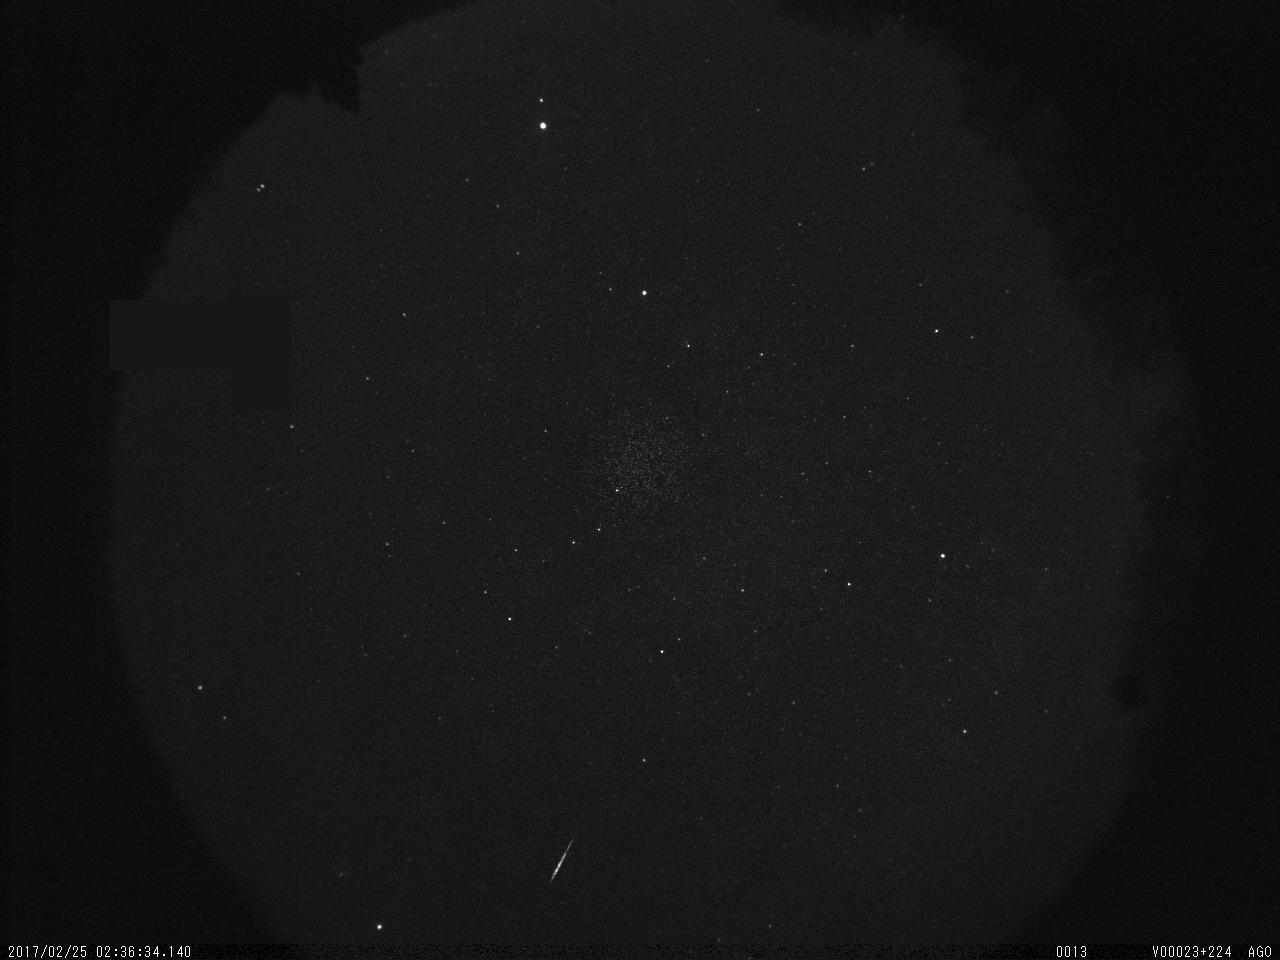meteor: (540, 820, 597, 899)
